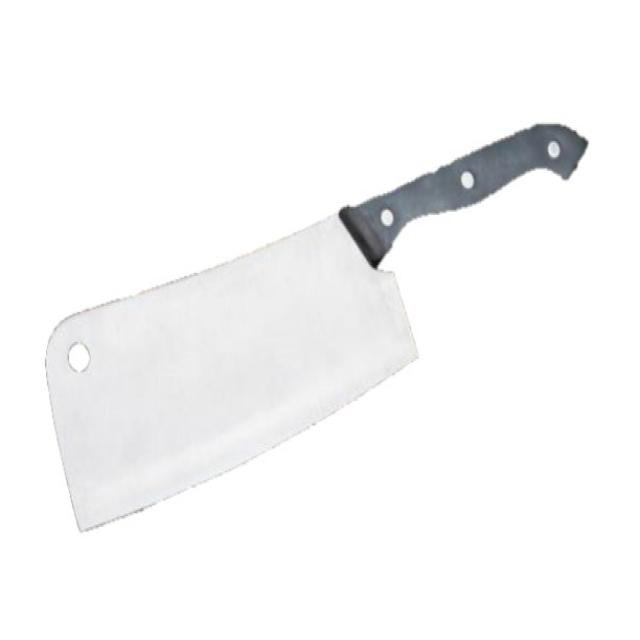knife: (39, 119, 598, 539)
